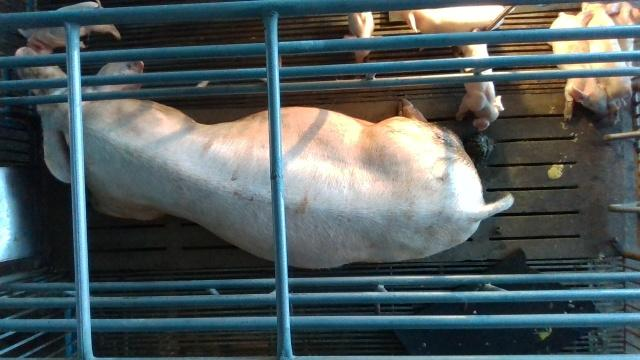piglet: (547, 12, 608, 122), (582, 2, 632, 104), (18, 0, 121, 47), (457, 44, 504, 129), (396, 5, 505, 34), (606, 1, 640, 67), (342, 11, 382, 61)
sow-sit: (16, 47, 516, 270)
